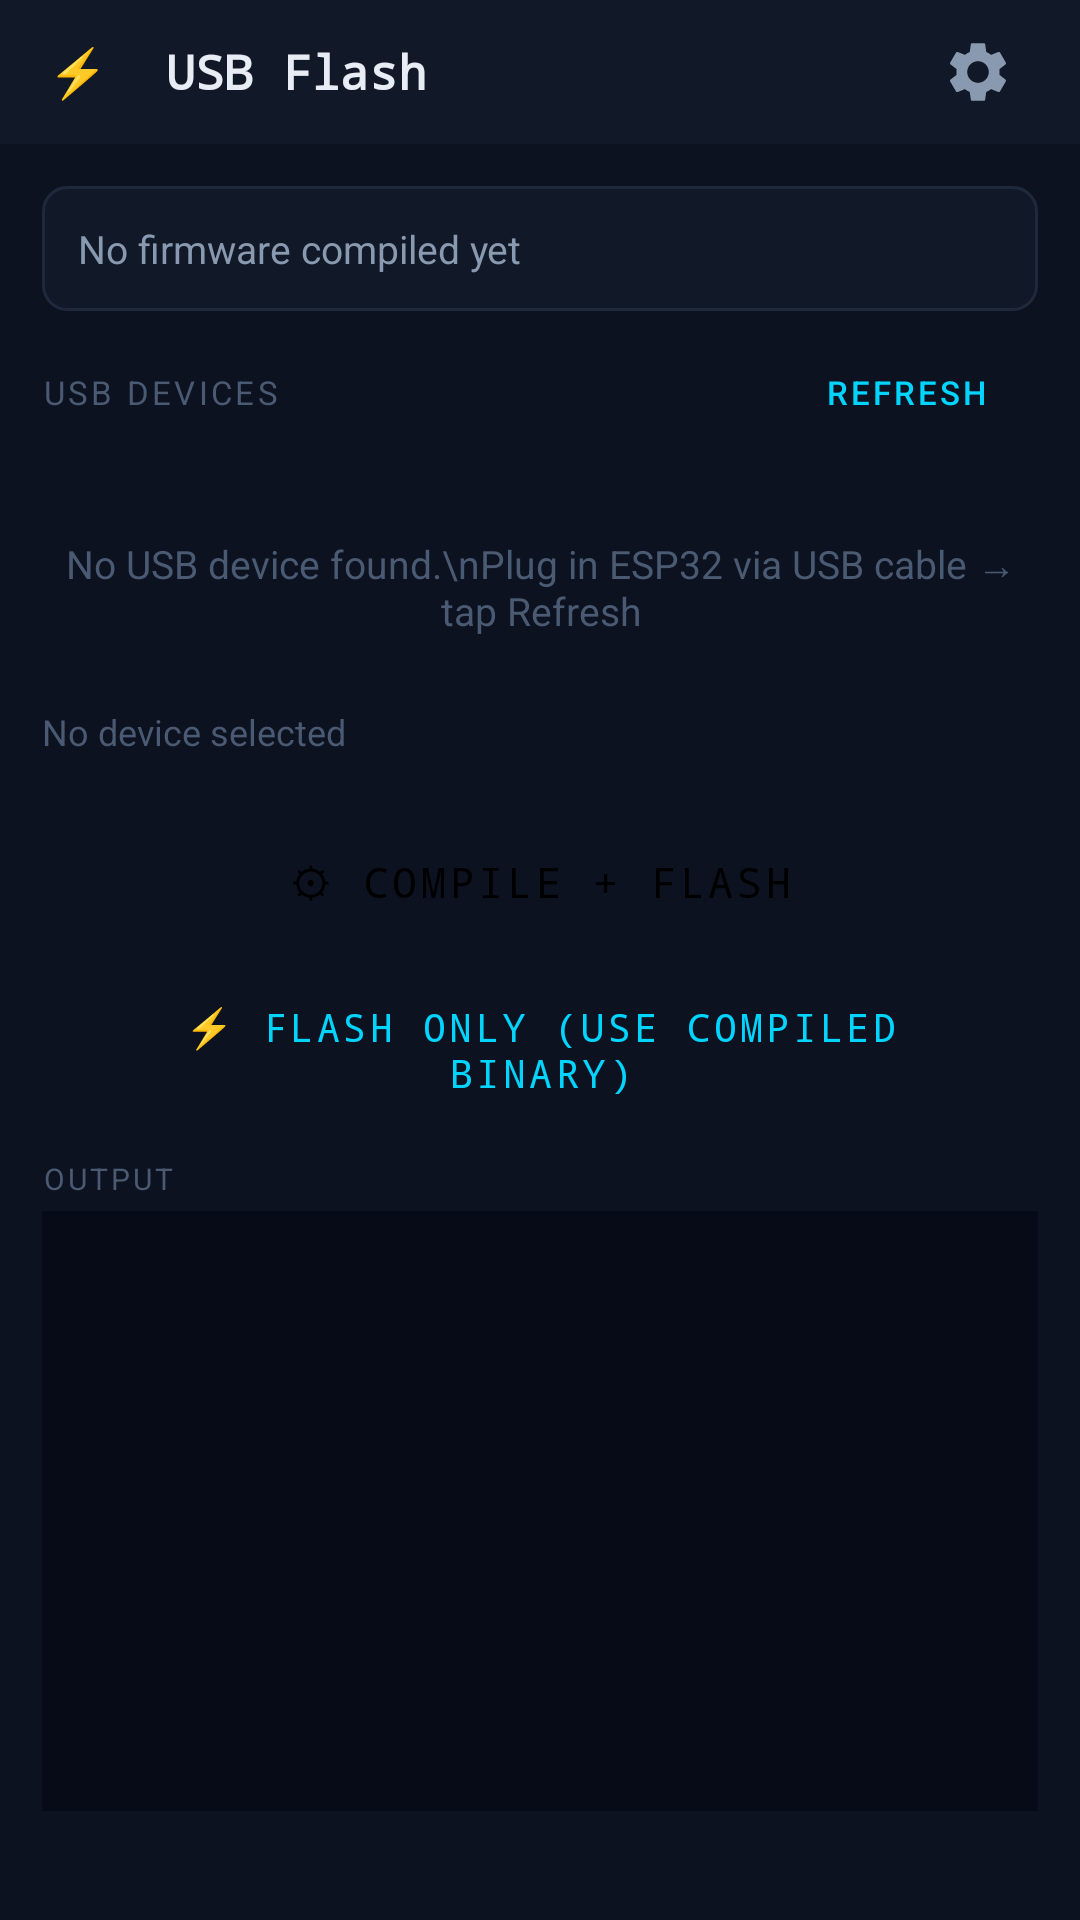

Point at icon controls on the screen. Image size 1080w x 1920h, points as (x,y).
settings: (978,72)
